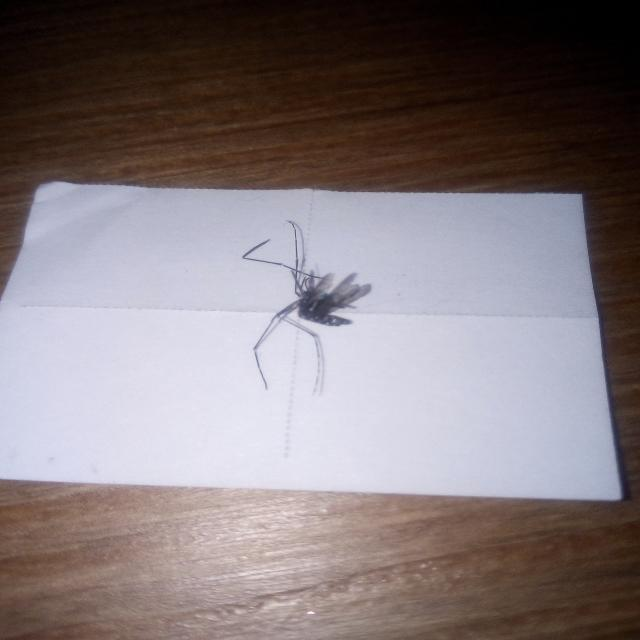albopictus: (220, 216, 385, 400)
